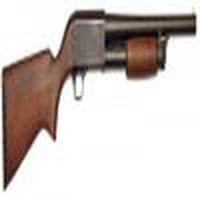gun: (2, 9, 199, 178)
